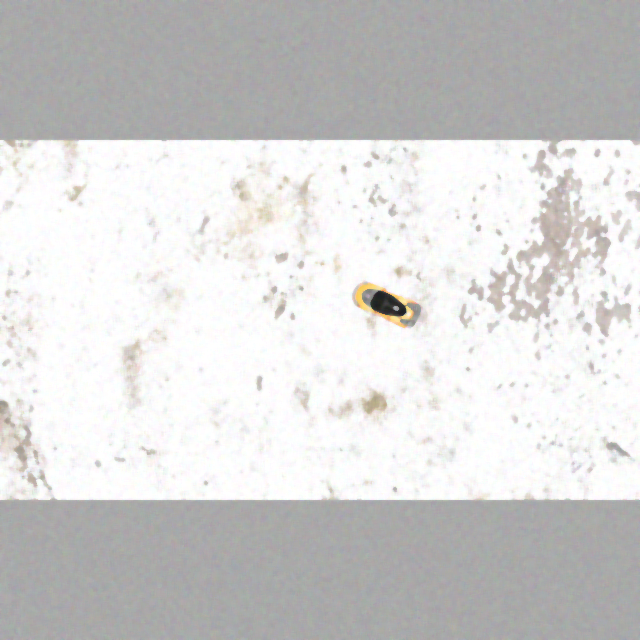car: (350, 277, 425, 332)
